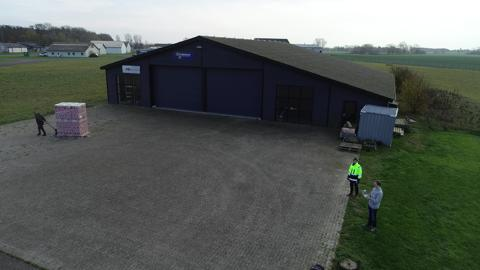RockwoolPallet: (53, 101, 90, 137)
